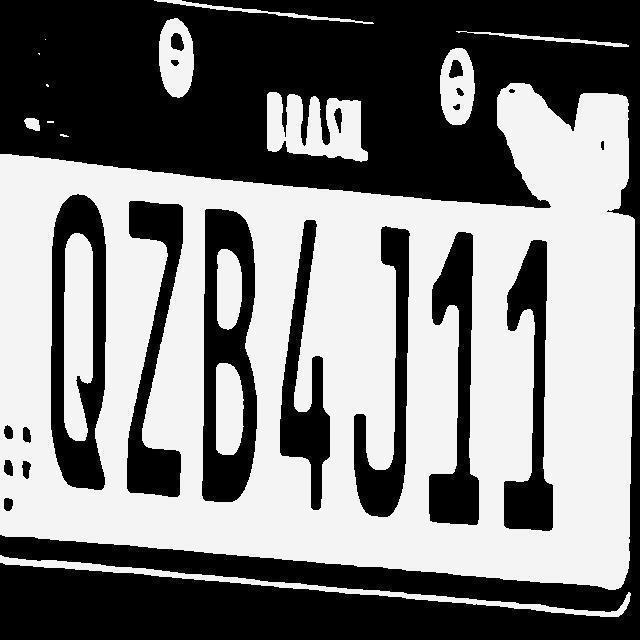1: (417, 226, 482, 520), (488, 242, 552, 534)
4: (272, 212, 338, 516)
b: (204, 201, 267, 508)
j: (342, 225, 412, 524)
q: (51, 186, 127, 494)
z: (120, 192, 196, 500)
